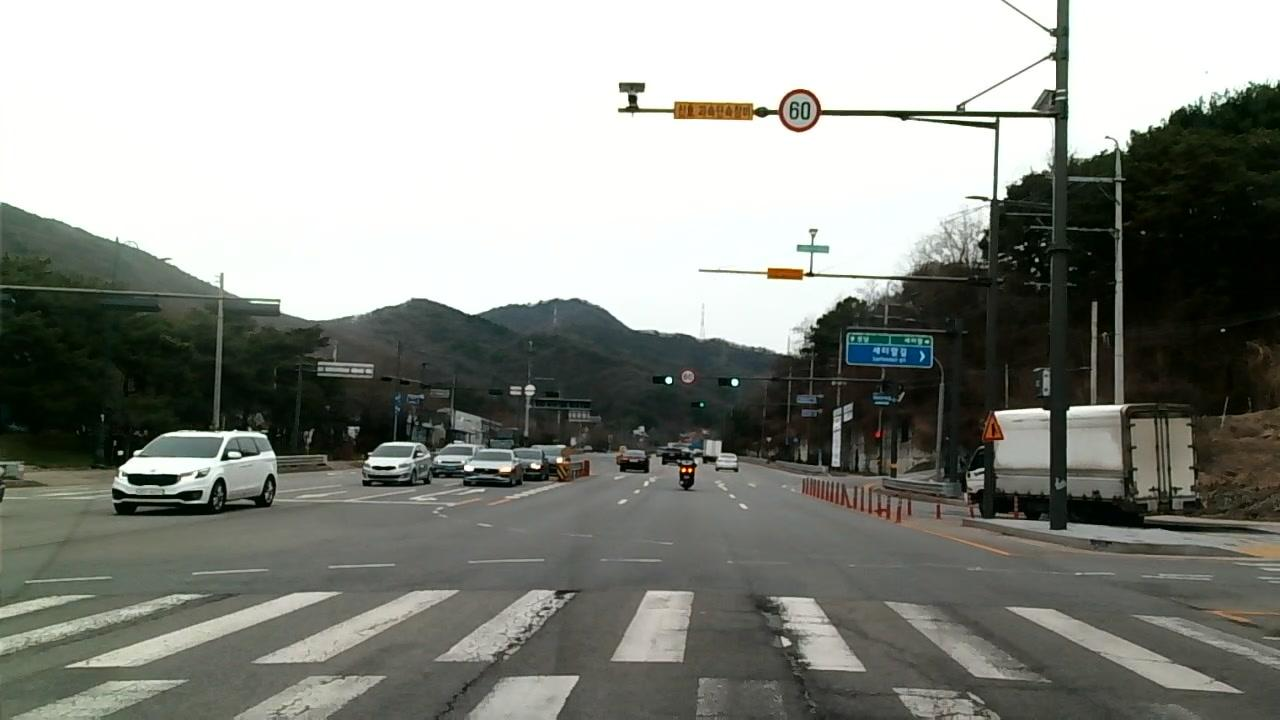hcrack: (844, 688, 973, 702)
pothole: (757, 595, 782, 623), (553, 583, 582, 601)
vcrack: (428, 603, 576, 720), (766, 626, 848, 720), (849, 625, 941, 687)
